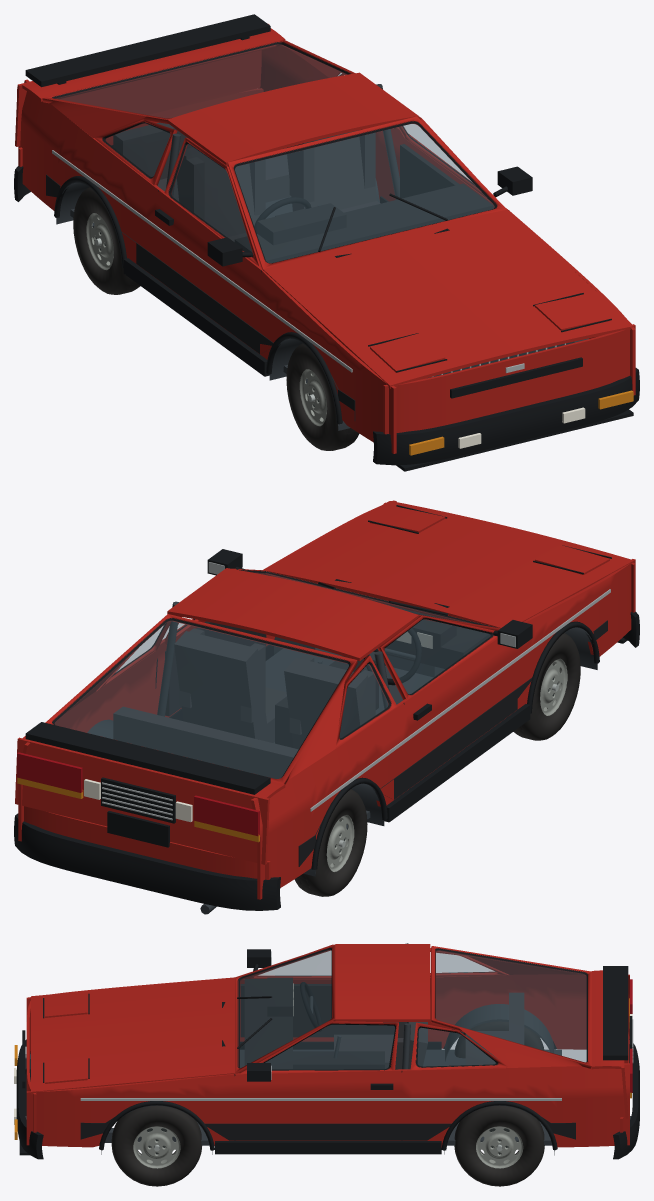
Rendered from saber.glb.
3 views of the same model, one above another, from view 1: azimuth 30°, elevation 25°; view 2: azimuth 150°, elevation 25°; view 3: azimuth 270°, elevation 25° (orthographic). The views are drawn at different scales.
Parts seen in each view (by area): view 1: panel_hoodSaber, glass_FrontSaber, panel_RoofSaber, panel_SaberfrontValance, glass_TailgateSaber, panel_RearQuarterLSaber, panel_bumper_frontSaber, panel_FrontWingLSaber, panel_TailgateSaber, Interior Saber Dashboard, panel_BodyDoorLSaber, panel_TailgateSaberSpoiler (+40 smaller); view 2: glass_TailgateSaber, panel_hoodSaber, panel_RoofSaber, panel_RearQuarterLSaber, panel_bumper_rearSaber, panel_TailgateSaber, Interior Saber SeatBack1, panel_BodyDoorLSaber, Interior Saber RearBack, panel_FrontWingLSaber, panel_TailgateSaberSpoiler, panel_SaberrearValance (+37 smaller); view 3: panel_hoodSaber, panel_RearQuarterRSaber, glass_TailgateSaber, panel_BodyDoorRSaber, panel_FrontWingRSaber, panel_RoofSaber, panel_RearQuarterLSaber, glass_FrontSaber, panel_SaberLowerTrimR, glass_BodyDoorRSaber, Tire_Tern_Carcass_FR, Tire_Tern_Carcass_RR (+41 smaller).
Part boxes in pixels (x1=…): panel_hoodSaber: x1=263, y1=210, x2=634, y2=388; glass_FrontSaber: x1=235, y1=123, x2=494, y2=263; panel_RoofSaber: x1=167, y1=72, x2=418, y2=165; panel_SaberfrontValance: x1=383, y1=324, x2=635, y2=434; glass_TailgateSaber: x1=56, y1=44, x2=346, y2=118; panel_RearQuarterLSaber: x1=18, y1=79, x2=161, y2=275; panel_bumper_frontSaber: x1=373, y1=368, x2=639, y2=465; panel_FrontWingLSaber: x1=257, y1=270, x2=396, y2=453; panel_TailgateSaber: x1=15, y1=24, x2=269, y2=146; Interior Saber Dashboard: x1=234, y1=183, x2=493, y2=263; panel_BodyDoorLSaber: x1=153, y1=189, x2=262, y2=350; panel_TailgateSaberSpoiler: x1=25, y1=14, x2=270, y2=87; glass_TailgateSaber: x1=54, y1=620, x2=348, y2=778; panel_hoodSaber: x1=263, y1=501, x2=634, y2=628; panel_RoofSaber: x1=167, y1=568, x2=418, y2=661; panel_RearQuarterLSaber: x1=251, y1=702, x2=409, y2=899; panel_bumper_rearSaber: x1=14, y1=813, x2=280, y2=910; panel_TailgateSaber: x1=15, y1=737, x2=269, y2=864; Interior Saber SeatBack1: x1=174, y1=631, x2=266, y2=739; panel_BodyDoorLSaber: x1=401, y1=637, x2=513, y2=787; Interior Saber RearBack: x1=113, y1=706, x2=298, y2=778; panel_FrontWingLSaber: x1=512, y1=559, x2=635, y2=711; panel_TailgateSaberSpoiler: x1=25, y1=722, x2=270, y2=794; panel_SaberrearValance: x1=24, y1=806, x2=270, y2=879; panel_hoodSaber: x1=31, y1=977, x2=234, y2=1094; panel_RearQuarterRSaber: x1=402, y1=1063, x2=629, y2=1147; glass_TailgateSaber: x1=436, y1=950, x2=586, y2=1062; panel_BodyDoorRSaber: x1=235, y1=1069, x2=401, y2=1140; panel_FrontWingRSaber: x1=26, y1=1073, x2=234, y2=1147; panel_RoofSaber: x1=335, y1=944, x2=430, y2=1021; panel_RearQuarterLSaber: x1=428, y1=974, x2=629, y2=1049; glass_FrontSaber: x1=240, y1=950, x2=331, y2=1067; panel_SaberLowerTrimR: x1=80, y1=1116, x2=575, y2=1140; glass_BodyDoorRSaber: x1=265, y1=1024, x2=394, y2=1069; Tire_Tern_Carcass_FR: x1=111, y1=1105, x2=201, y2=1186; Tire_Tern_Carcass_RR: x1=454, y1=1105, x2=544, y2=1186.
Size of the model in its own units: 2.03 by 1.27 by 4.42.
